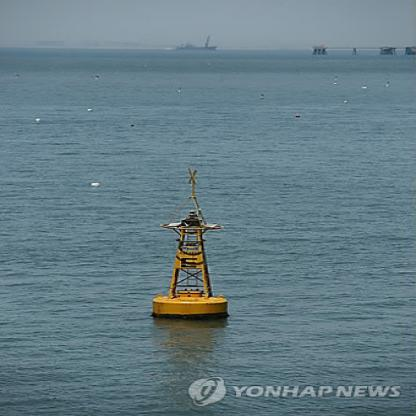buoy: (143, 162, 239, 322)
